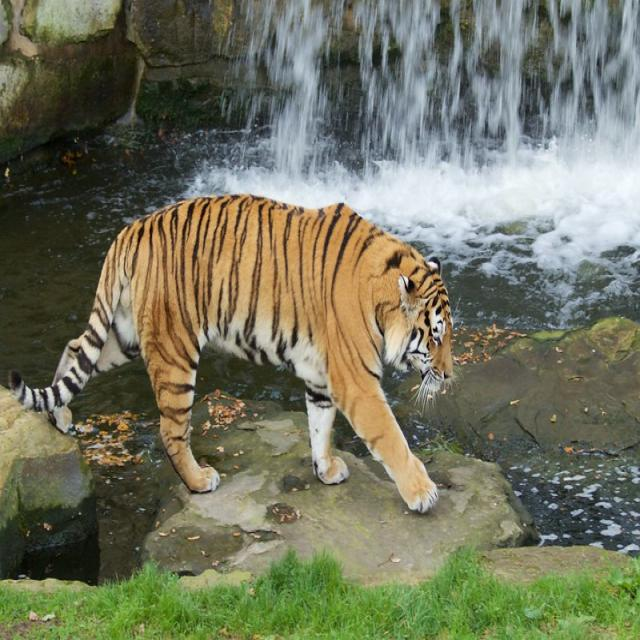Tiger: (19, 183, 466, 518)
